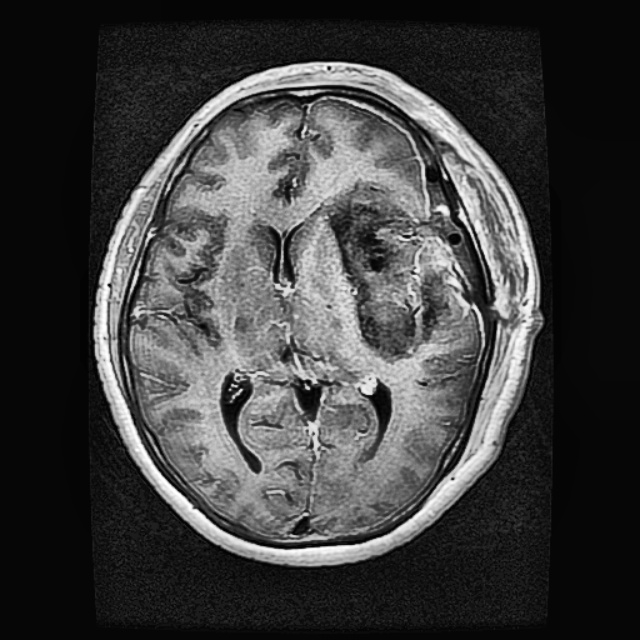Pituitary: (323, 182, 479, 362)
